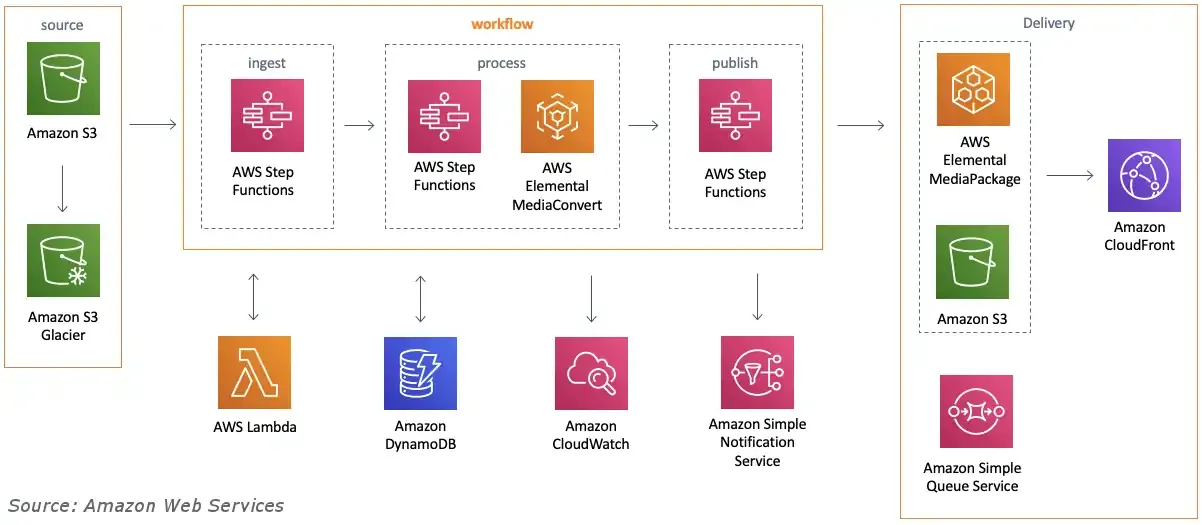cloudfront: (1109, 139, 1180, 212)
cloudwatch: (556, 340, 626, 409)
dynamodb: (385, 337, 458, 411)
lambda: (218, 338, 291, 409)
s3: (937, 225, 1008, 298), (28, 43, 99, 113)
s3 glacier: (27, 225, 99, 296)
sns: (721, 337, 795, 409)
sqs: (942, 375, 1013, 447)
step functions: (700, 79, 772, 153), (408, 80, 480, 152), (233, 80, 303, 152)
